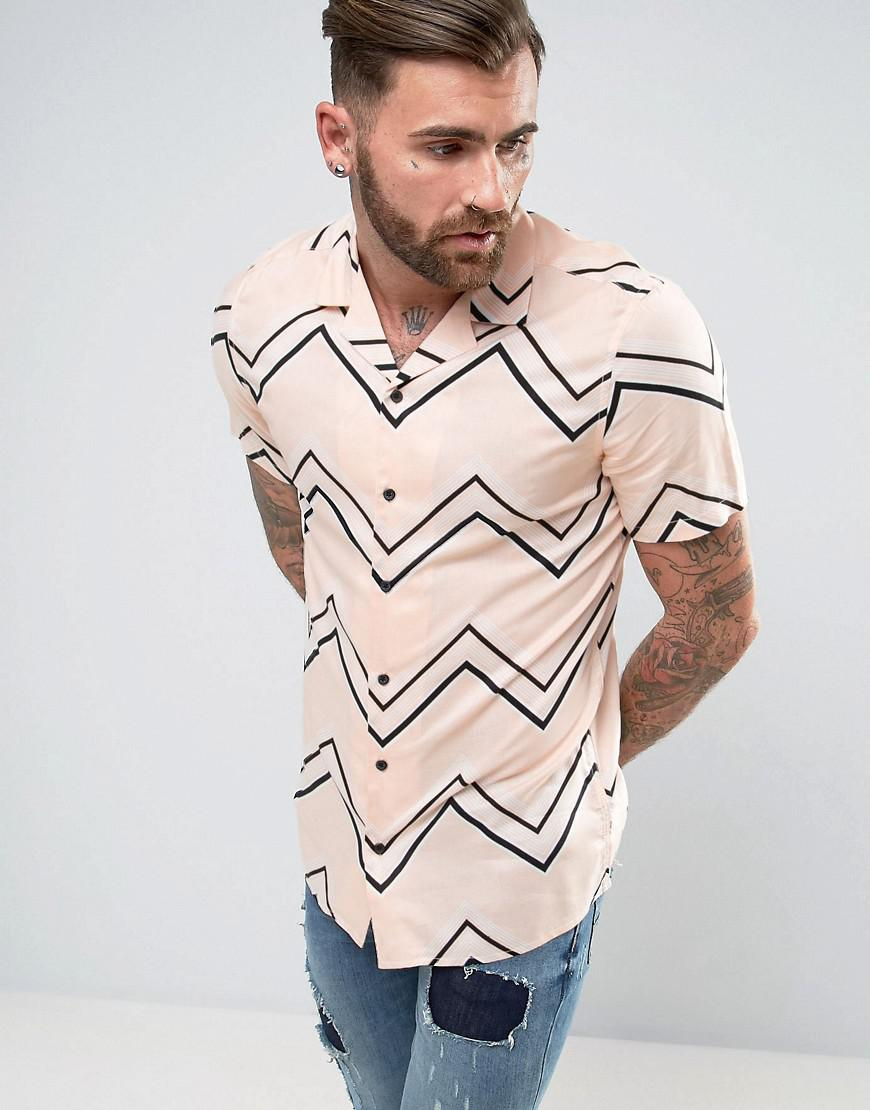teeshirt: (181, 205, 749, 973)
